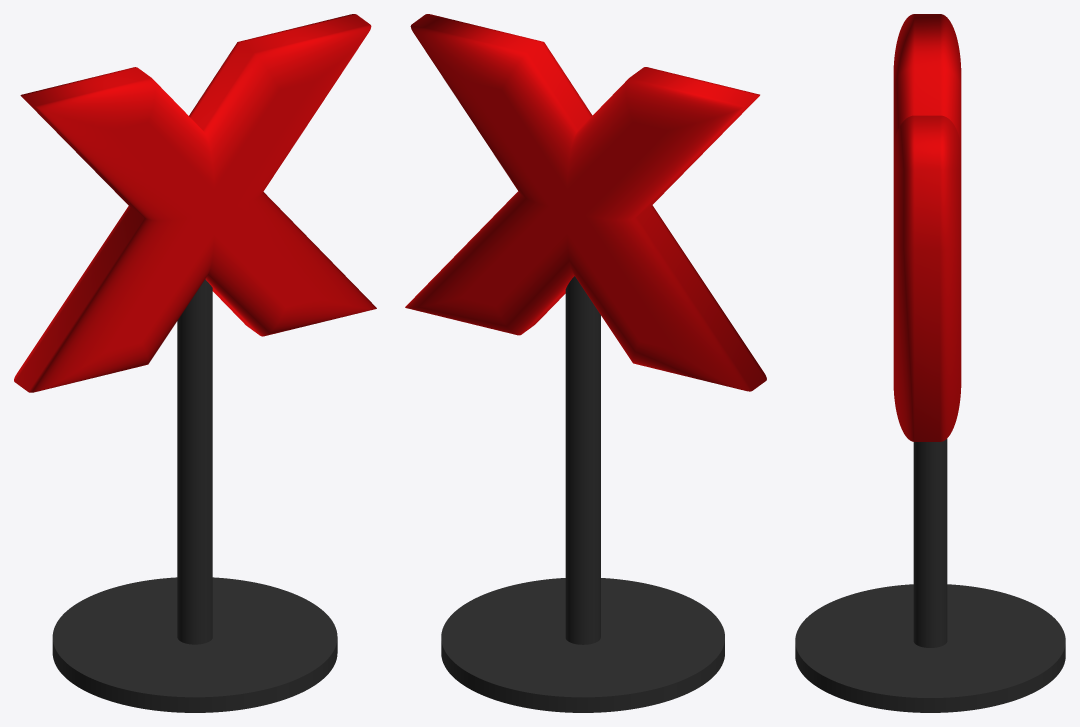
File: Train_No.fbx
3 renders of one model, left to right at view 1: azimuth 30°, elevation 25°; view 2: azimuth 150°, elevation 25°; view 3: azimuth 270°, elevation 25°, orthographic. The views are drawn at different scales.
Visible parts, largest first — view 1: Text.002, Cylinder.004; view 2: Text.002, Cylinder.004; view 3: Cylinder.004, Text.002.
Part boxes in pixels (box(x1,y1,x2,y2)): Text.002: box(14, 14, 376, 392); Cylinder.004: box(52, 279, 337, 712); Text.002: box(405, 14, 766, 391); Cylinder.004: box(441, 276, 724, 712); Cylinder.004: box(795, 439, 1065, 712); Text.002: box(893, 14, 961, 441).
Size of the model in its own units: 4572 by 7458 by 3243.
